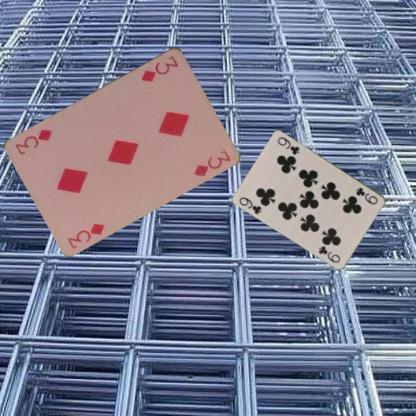3d: (138, 53, 180, 83), (64, 220, 106, 250)
9c: (237, 194, 263, 216), (354, 185, 379, 206)
